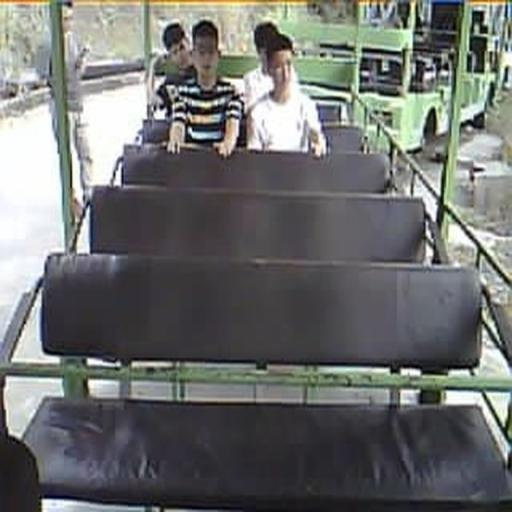persona: (162, 19, 244, 158), (244, 22, 328, 157), (244, 21, 298, 110), (148, 16, 197, 110)
